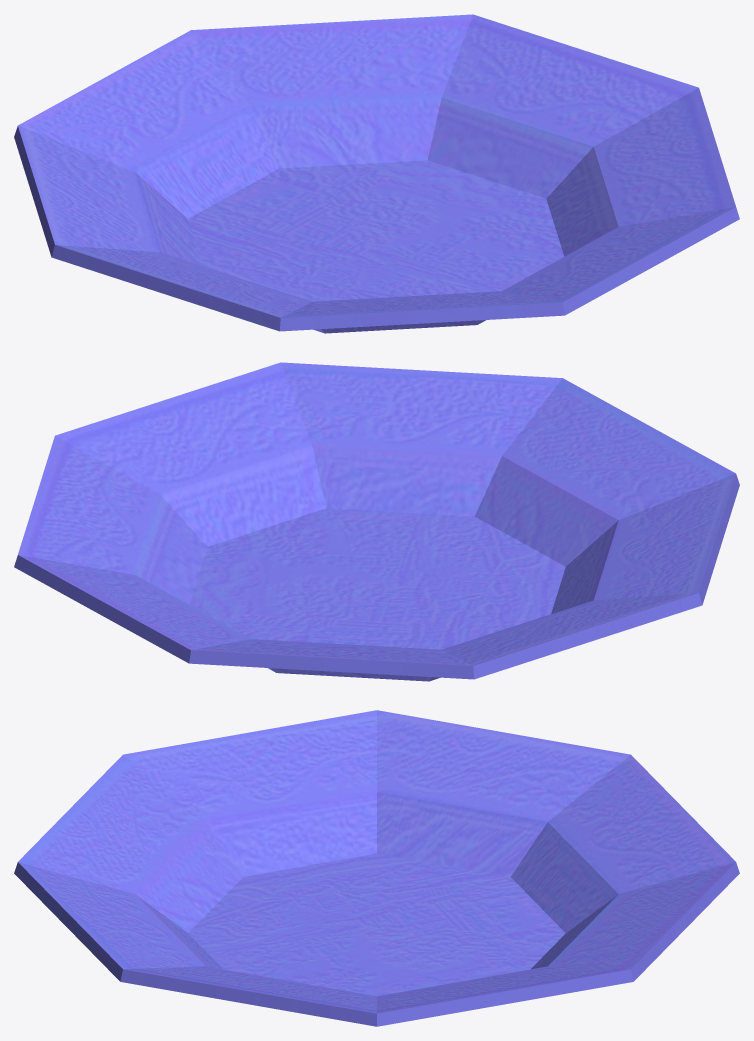
Rendered from tanjurek.fbx.
The picture shows the model from 3 angles, top to bottom: view 1: azimuth 30°, elevation 25°; view 2: azimuth 150°, elevation 25°; view 3: azimuth 270°, elevation 25°; orthographic projection. The views are drawn at different scales.
Visible parts, largest first — view 1: tanjurek; view 2: tanjurek; view 3: tanjurek.
Part boxes in pixels (left/top/right/bottom): tanjurek: left=14, top=14, right=739, bottom=333; tanjurek: left=14, top=362, right=739, bottom=681; tanjurek: left=14, top=710, right=739, bottom=1026.
Bounding box in the file's own units: 384 × 384 × 48.1.
Materials: 1 (1 with a texture image).
